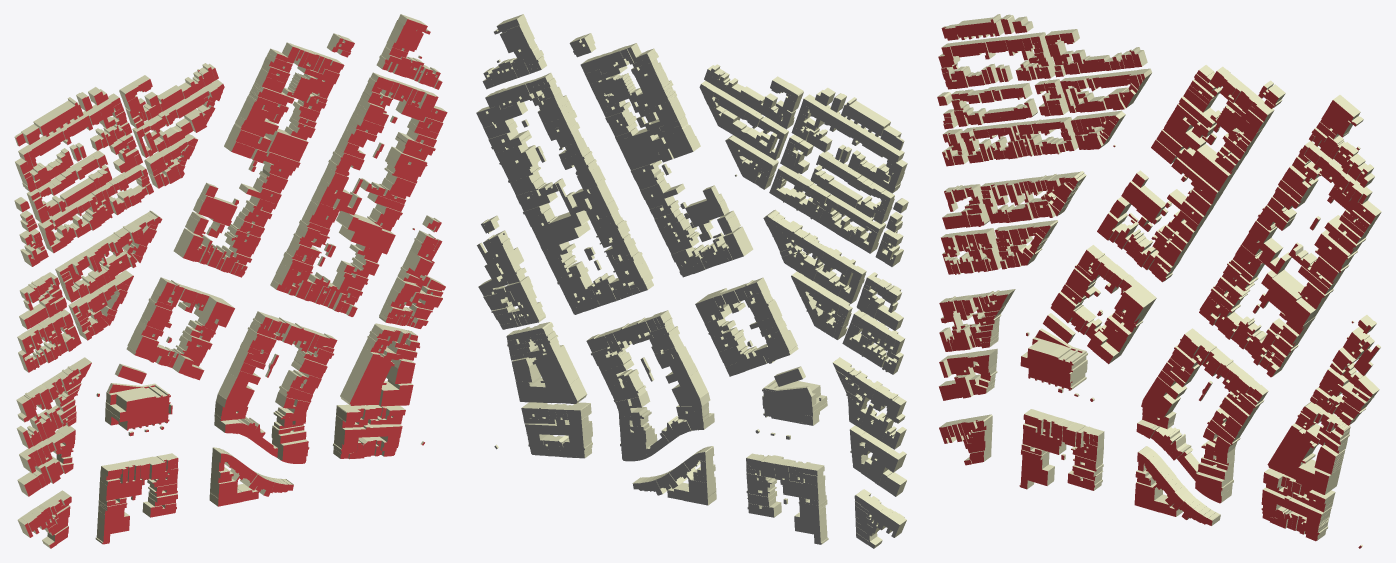
3 views of the same model, side by side, from view 1: azimuth 30°, elevation 25°; view 2: azimuth 150°, elevation 25°; view 3: azimuth 330°, elevation 25° (orthographic). The views are drawn at different scales.
Parts seen in each view (by area): view 1: NL.IMBAG.Pand.0363100012174221, NL.IMBAG.Pand.0363100012176936, NL.IMBAG.Pand.0363100012167671, NL.IMBAG.Pand.0363100012165021, NL.IMBAG.Pand.0363100012176303, NL.IMBAG.Pand.0363100012169305, NL.IMBAG.Pand.0363100012168856, NL.IMBAG.Pand.0363100012167695, NL.IMBAG.Pand.0363100012165029, NL.IMBAG.Pand.0363100012174217, NL.IMBAG.Pand.0363100012169268, NL.IMBAG.Pand.0363100012176541 (+13 smaller); view 2: NL.IMBAG.Pand.0363100012176936, NL.IMBAG.Pand.0363100012174221, NL.IMBAG.Pand.0363100012167671, NL.IMBAG.Pand.0363100012165021, NL.IMBAG.Pand.0363100012176303, NL.IMBAG.Pand.0363100012169305, NL.IMBAG.Pand.0363100012167695, NL.IMBAG.Pand.0363100012168856, NL.IMBAG.Pand.0363100012174217, NL.IMBAG.Pand.0363100012165029, NL.IMBAG.Pand.0363100012169268, NL.IMBAG.Pand.0363100012164997 (+12 smaller); view 3: NL.IMBAG.Pand.0363100012174221, NL.IMBAG.Pand.0363100012167671, NL.IMBAG.Pand.0363100012176936, NL.IMBAG.Pand.0363100012176303, NL.IMBAG.Pand.0363100012176541, NL.IMBAG.Pand.0363100012165021, NL.IMBAG.Pand.0363100012169268, NL.IMBAG.Pand.0363100012172425, NL.IMBAG.Pand.0363100012165029, NL.IMBAG.Pand.0363100012167640, NL.IMBAG.Pand.0363100012174217, NL.IMBAG.Pand.0363100012169305 (+11 smaller).
Boxes of the visible parts, bbox=[...] form: NL.IMBAG.Pand.0363100012174221: bbox=[105, 383, 170, 430]; NL.IMBAG.Pand.0363100012176936: bbox=[340, 347, 400, 405]; NL.IMBAG.Pand.0363100012167671: bbox=[336, 211, 395, 254]; NL.IMBAG.Pand.0363100012165021: bbox=[216, 364, 260, 407]; NL.IMBAG.Pand.0363100012176303: bbox=[334, 423, 402, 447]; NL.IMBAG.Pand.0363100012169305: bbox=[209, 478, 258, 506]; NL.IMBAG.Pand.0363100012168856: bbox=[33, 97, 83, 136]; NL.IMBAG.Pand.0363100012167695: bbox=[282, 72, 333, 101]; NL.IMBAG.Pand.0363100012165029: bbox=[312, 181, 361, 214]; NL.IMBAG.Pand.0363100012174217: bbox=[95, 505, 129, 544]; NL.IMBAG.Pand.0363100012169268: bbox=[193, 192, 237, 225]; NL.IMBAG.Pand.0363100012176541: bbox=[265, 128, 308, 161]; NL.IMBAG.Pand.0363100012176936: bbox=[527, 345, 587, 403]; NL.IMBAG.Pand.0363100012174221: bbox=[762, 379, 827, 424]; NL.IMBAG.Pand.0363100012167671: bbox=[534, 210, 590, 250]; NL.IMBAG.Pand.0363100012165021: bbox=[665, 363, 710, 406]; NL.IMBAG.Pand.0363100012176303: bbox=[525, 421, 592, 445]; NL.IMBAG.Pand.0363100012169305: bbox=[667, 476, 716, 505]; NL.IMBAG.Pand.0363100012167695: bbox=[589, 73, 641, 102]; NL.IMBAG.Pand.0363100012168856: bbox=[841, 97, 890, 136]; NL.IMBAG.Pand.0363100012174217: bbox=[794, 506, 828, 544]; NL.IMBAG.Pand.0363100012165029: bbox=[563, 181, 612, 214]; NL.IMBAG.Pand.0363100012169268: bbox=[685, 193, 729, 227]; NL.IMBAG.Pand.0363100012164997: bbox=[782, 460, 825, 500]; NL.IMBAG.Pand.0363100012174221: bbox=[1020, 339, 1087, 390]; NL.IMBAG.Pand.0363100012167671: bbox=[1261, 269, 1322, 328]; NL.IMBAG.Pand.0363100012176936: bbox=[1267, 423, 1320, 479]; NL.IMBAG.Pand.0363100012176303: bbox=[1261, 487, 1331, 533]; NL.IMBAG.Pand.0363100012176541: bbox=[1187, 143, 1236, 191]; NL.IMBAG.Pand.0363100012165021: bbox=[1141, 376, 1186, 417]; NL.IMBAG.Pand.0363100012169268: bbox=[1121, 180, 1165, 223]; NL.IMBAG.Pand.0363100012172425: bbox=[1114, 282, 1156, 322]; NL.IMBAG.Pand.0363100012165029: bbox=[1241, 233, 1291, 274]; NL.IMBAG.Pand.0363100012167640: bbox=[1295, 459, 1340, 494]; NL.IMBAG.Pand.0363100012174217: bbox=[1019, 454, 1054, 489]; NL.IMBAG.Pand.0363100012169305: bbox=[1134, 482, 1183, 516].
Size of the model in its own units: 519 by 527 by 37.59.
